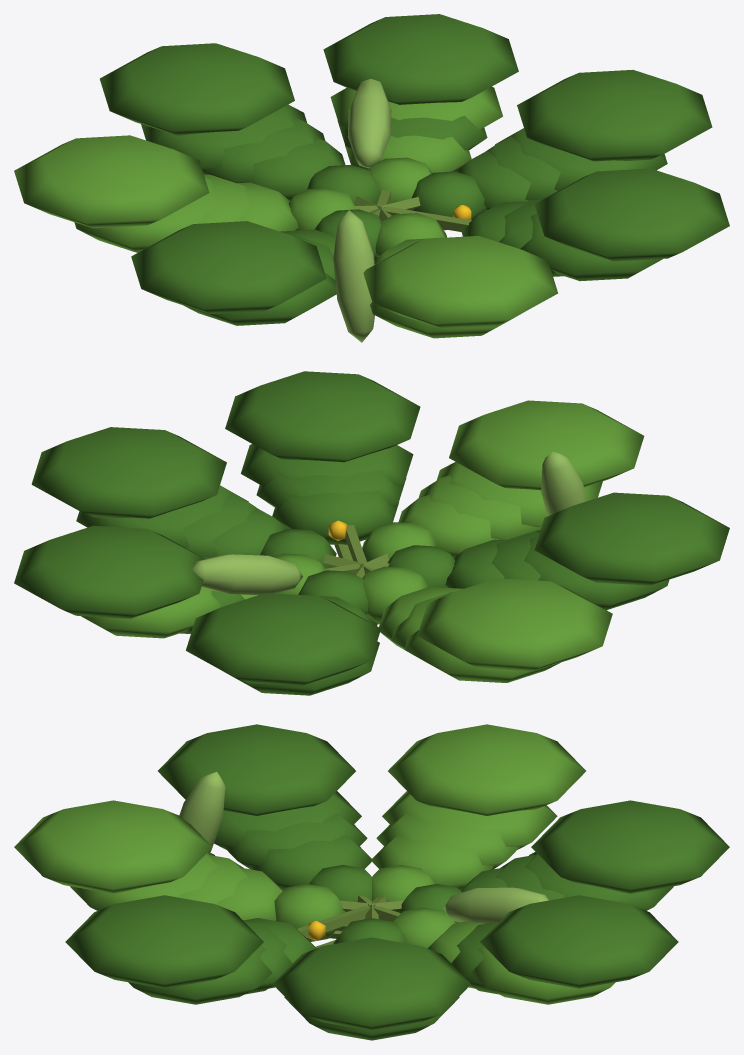
Rendered from Crop_Veg_Zucchini.fbx.
3 renders of one model, top to bottom at view 1: azimuth 30°, elevation 25°; view 2: azimuth 150°, elevation 25°; view 3: azimuth 270°, elevation 25°, orthographic.
Visible parts, largest first — view 1: Crop_Veg_Zucchini__S4, Crop_Veg_Zucchini__S3, Crop_Veg_Zucchini__S2, Crop_Veg_Zucchini__S1, Crop_Veg_Zucchini__S5; view 2: Crop_Veg_Zucchini__S4, Crop_Veg_Zucchini__S3, Crop_Veg_Zucchini__S2, Crop_Veg_Zucchini__S5, Crop_Veg_Zucchini__S1; view 3: Crop_Veg_Zucchini__S4, Crop_Veg_Zucchini__S3, Crop_Veg_Zucchini__S2, Crop_Veg_Zucchini__S5, Crop_Veg_Zucchini__S1.
Boxes of the visible parts, left/top/right/bottom form: Crop_Veg_Zucchini__S4: left=14, top=14, right=729, bottom=342; Crop_Veg_Zucchini__S3: left=74, top=86, right=667, bottom=338; Crop_Veg_Zucchini__S2: left=237, top=135, right=531, bottom=264; Crop_Veg_Zucchini__S1: left=288, top=157, right=486, bottom=259; Crop_Veg_Zucchini__S5: left=202, top=115, right=563, bottom=279; Crop_Veg_Zucchini__S4: left=14, top=371, right=729, bottom=685; Crop_Veg_Zucchini__S3: left=76, top=444, right=669, bottom=695; Crop_Veg_Zucchini__S2: left=213, top=491, right=506, bottom=649; Crop_Veg_Zucchini__S5: left=180, top=470, right=541, bottom=648; Crop_Veg_Zucchini__S1: left=260, top=522, right=455, bottom=624; Crop_Veg_Zucchini__S4: left=14, top=724, right=729, bottom=1030; Crop_Veg_Zucchini__S3: left=70, top=791, right=673, bottom=1040; Crop_Veg_Zucchini__S2: left=217, top=835, right=507, bottom=988; Crop_Veg_Zucchini__S5: left=179, top=813, right=564, bottom=994; Crop_Veg_Zucchini__S1: left=274, top=865, right=461, bottom=948.
Size of the model in its own units: 0.3181 by 0.0572 by 0.324.
